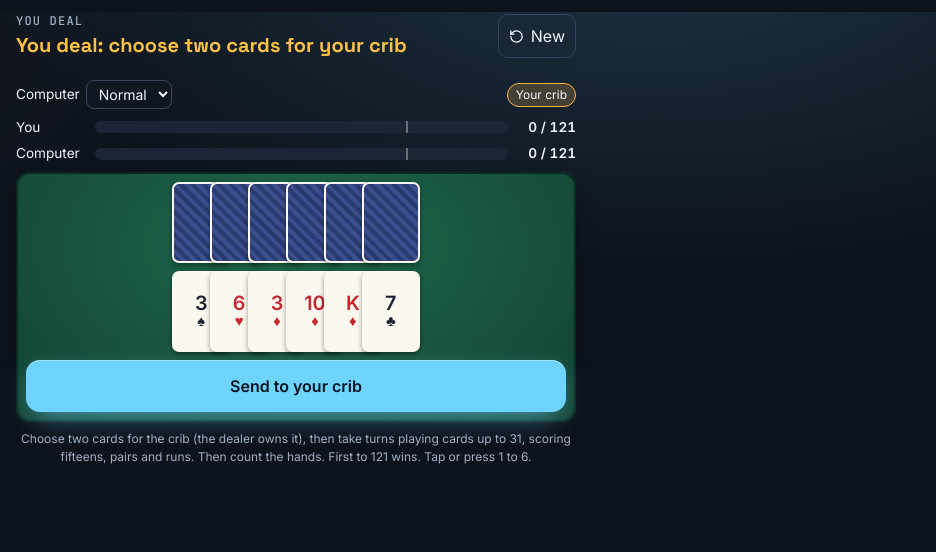
Cribbage component › moves on to pegging with four cards after both discards
What coordinates should you click on to do the following:
click the button "3 ♠"
I would click on:
 (201, 312)
Its box is [172,271,230,352].
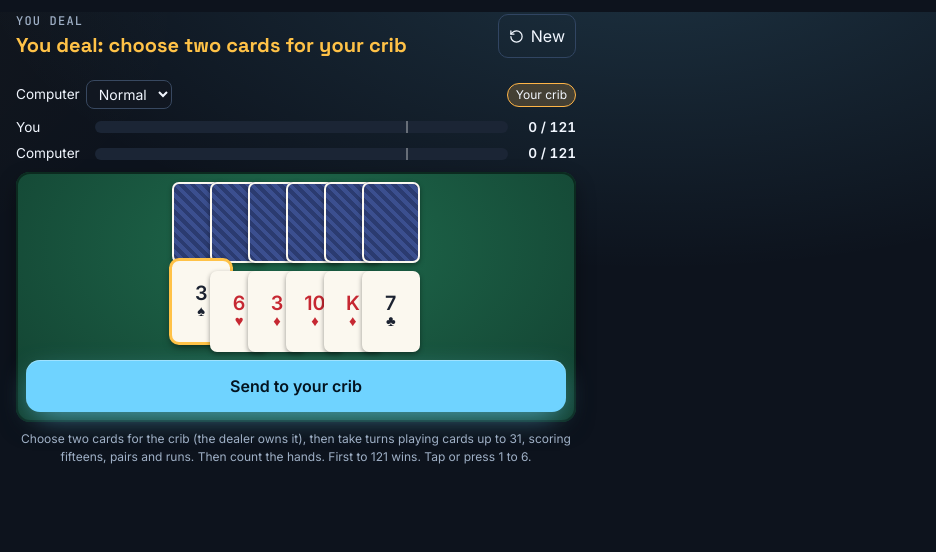
What coordinates should you click on to do the following:
click the button "6 ♥"
I would click on:
 (239, 312)
Its box is [210,271,268,352].
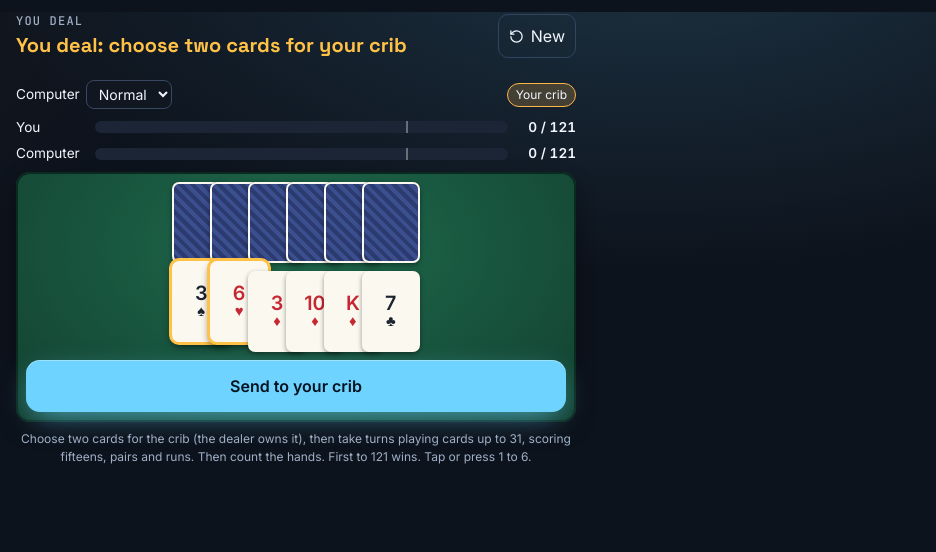
What coordinates should you click on to do the following:
click the button "Send to your crib"
I would click on:
 (296, 386)
Its box is [26,360,566,412].
Wait 1950 ms
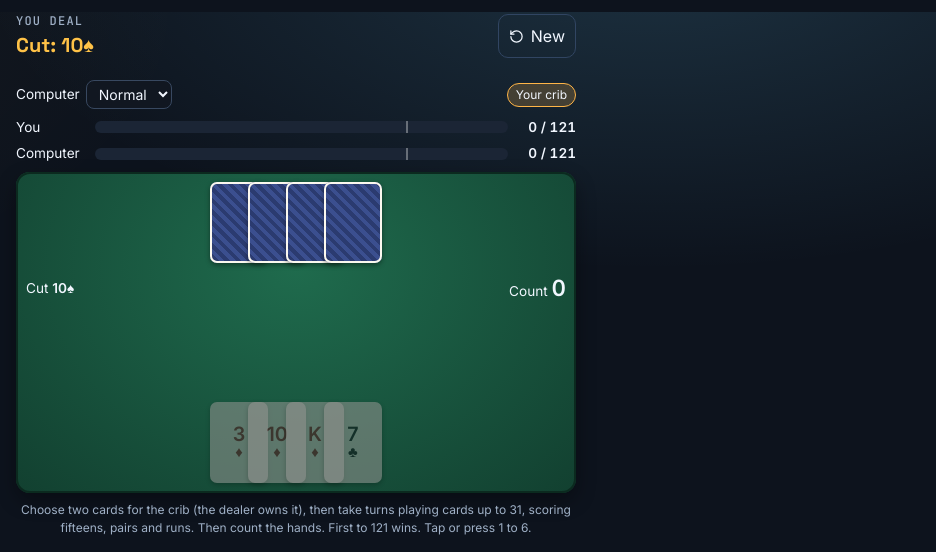
Result: the text "Count 0" is shown at [509,271,566,305]
